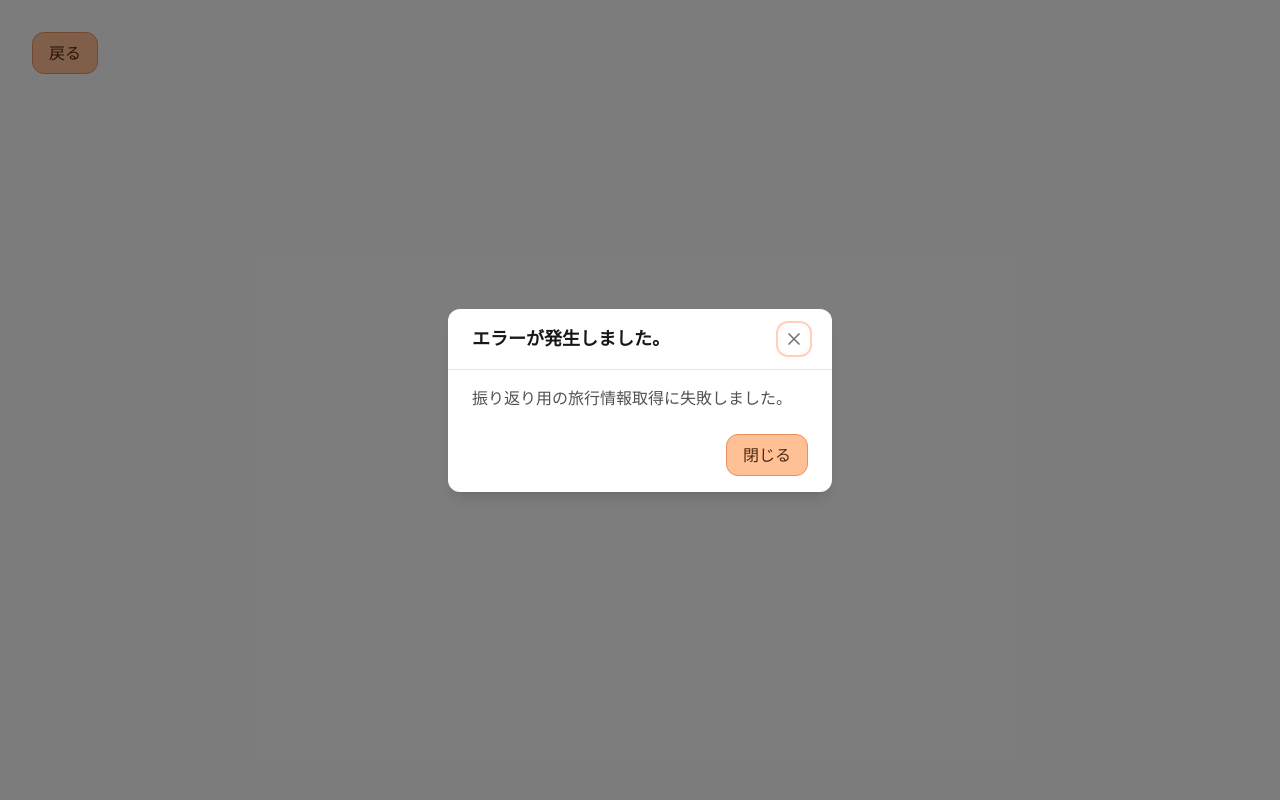
Scenario: ReflectionDetailPage › エラーダイアログ操作 › エラーダイアログを閉じることができる
Expected: the text "振り返り用の旅行情報取得に失敗しました。" is shown, [472,386,808,410]
# 実行: 閉じるボタンをクリック
Click the button "閉じる".
click(767, 454)  # box [726,434,808,476]
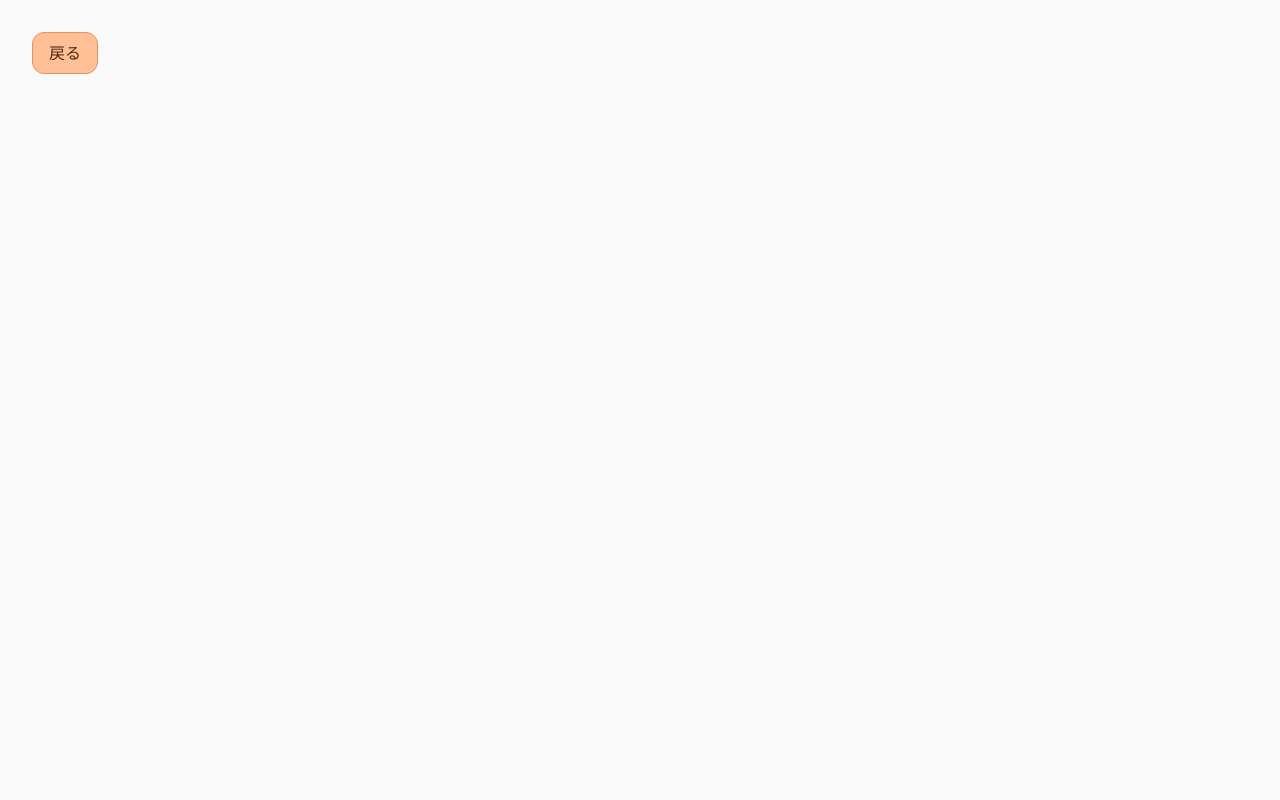
Expected: the heading "エラーが発生しました。" is gone
